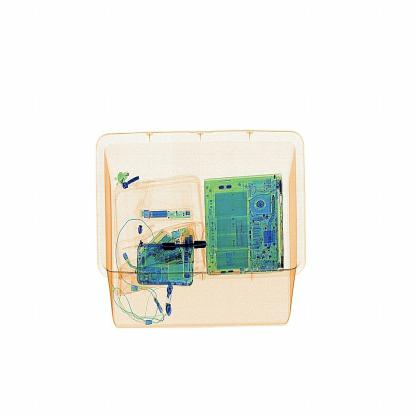knife: (158, 234, 215, 258)
